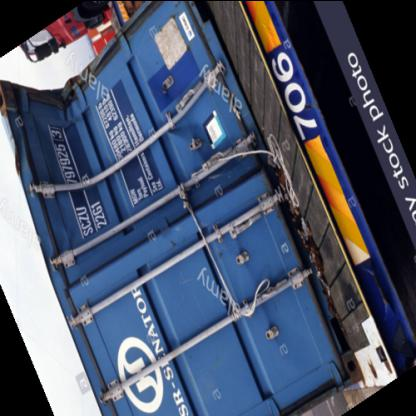Damage: (5, 3, 238, 257)
